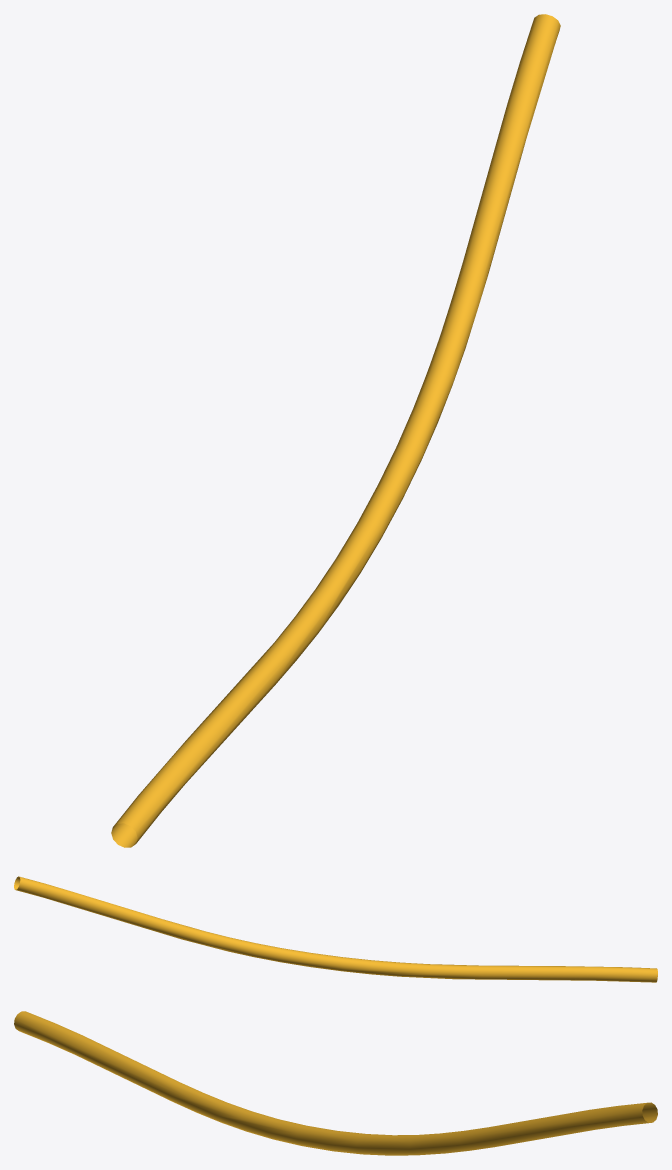
The model's file is nervoso-infrapatellar-branch-of-saphenous-nerve-r.glb.
3 views of the same model, one above another, from view 1: azimuth 30°, elevation 25°; view 2: azimuth 150°, elevation 25°; view 3: azimuth 270°, elevation 25° (orthographic). The views are drawn at different scales.
Visible parts, largest first — view 1: Infrapatellar branch of saphenous nerve.r; view 2: Infrapatellar branch of saphenous nerve.r; view 3: Infrapatellar branch of saphenous nerve.r.
Boxes of the visible parts, bbox=[...] form: Infrapatellar branch of saphenous nerve.r: bbox=[111, 14, 560, 847]; Infrapatellar branch of saphenous nerve.r: bbox=[14, 876, 657, 982]; Infrapatellar branch of saphenous nerve.r: bbox=[14, 1011, 657, 1155].
Bounding box in the file's own units: 0.0349 × 0.0121 × 0.0306.
